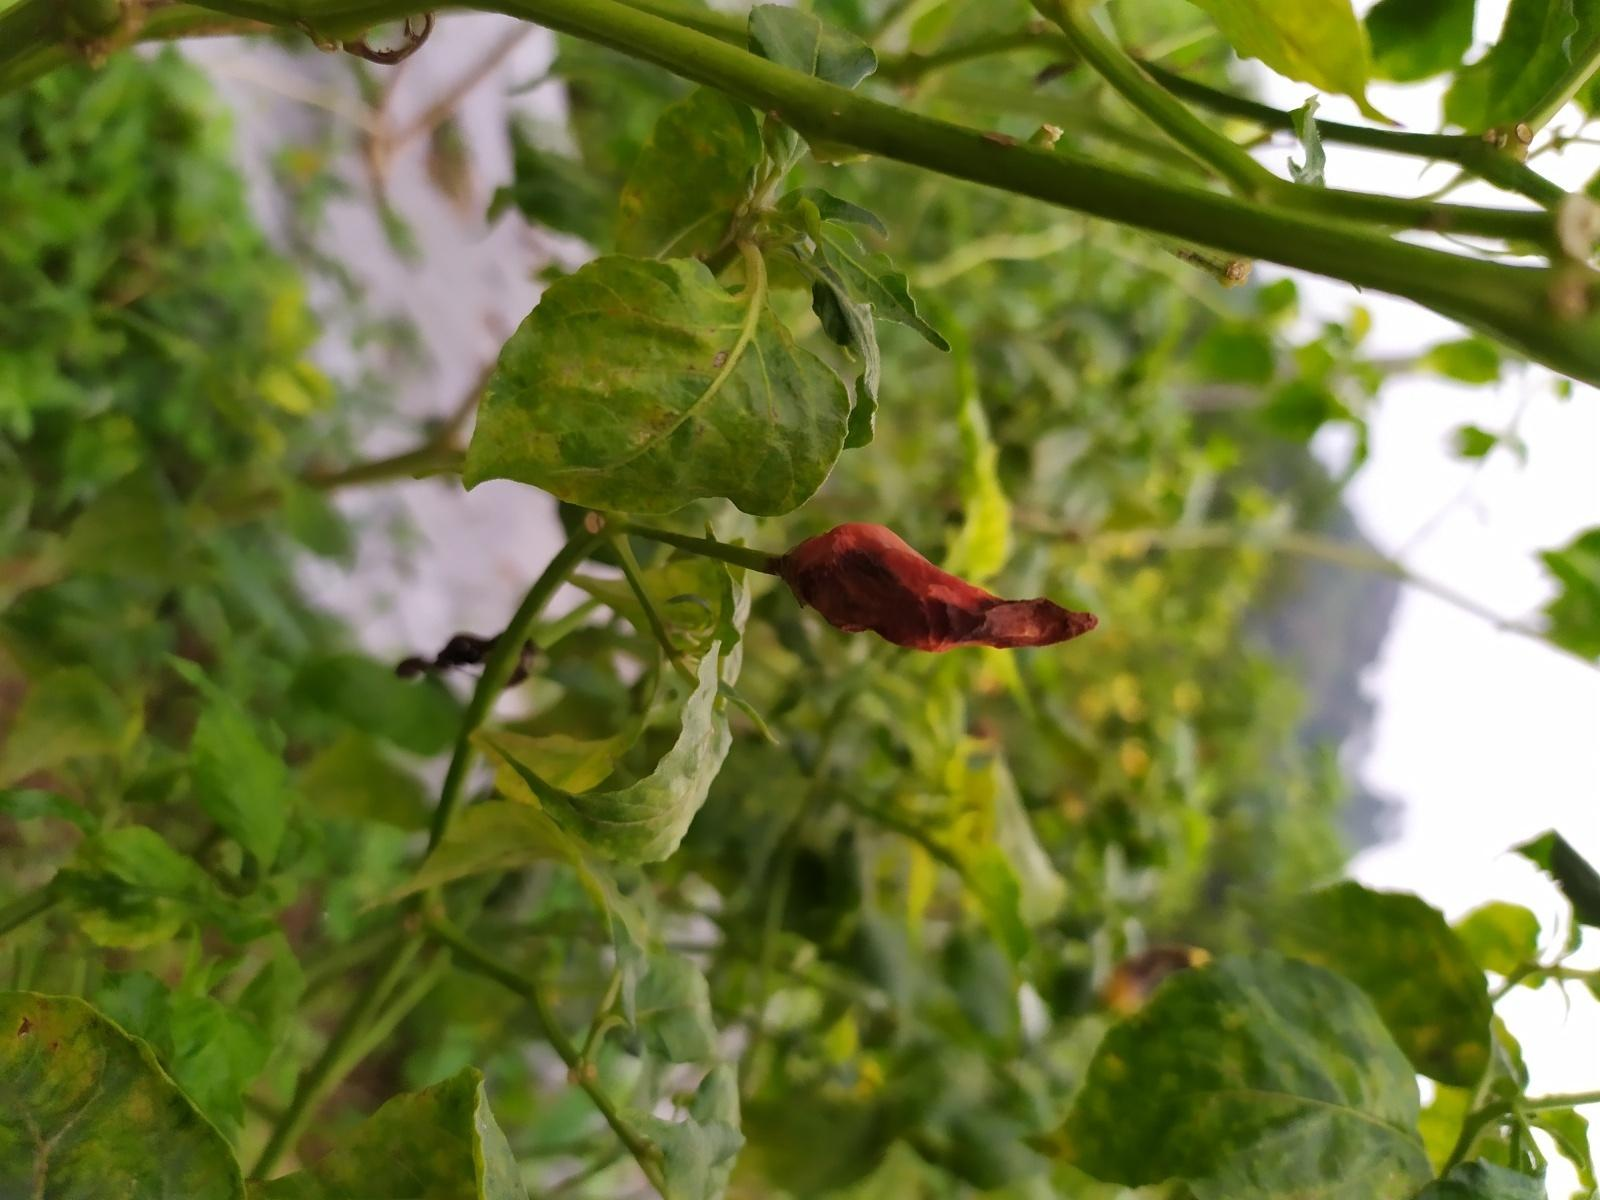antraknosa: (784, 523, 1099, 654)
